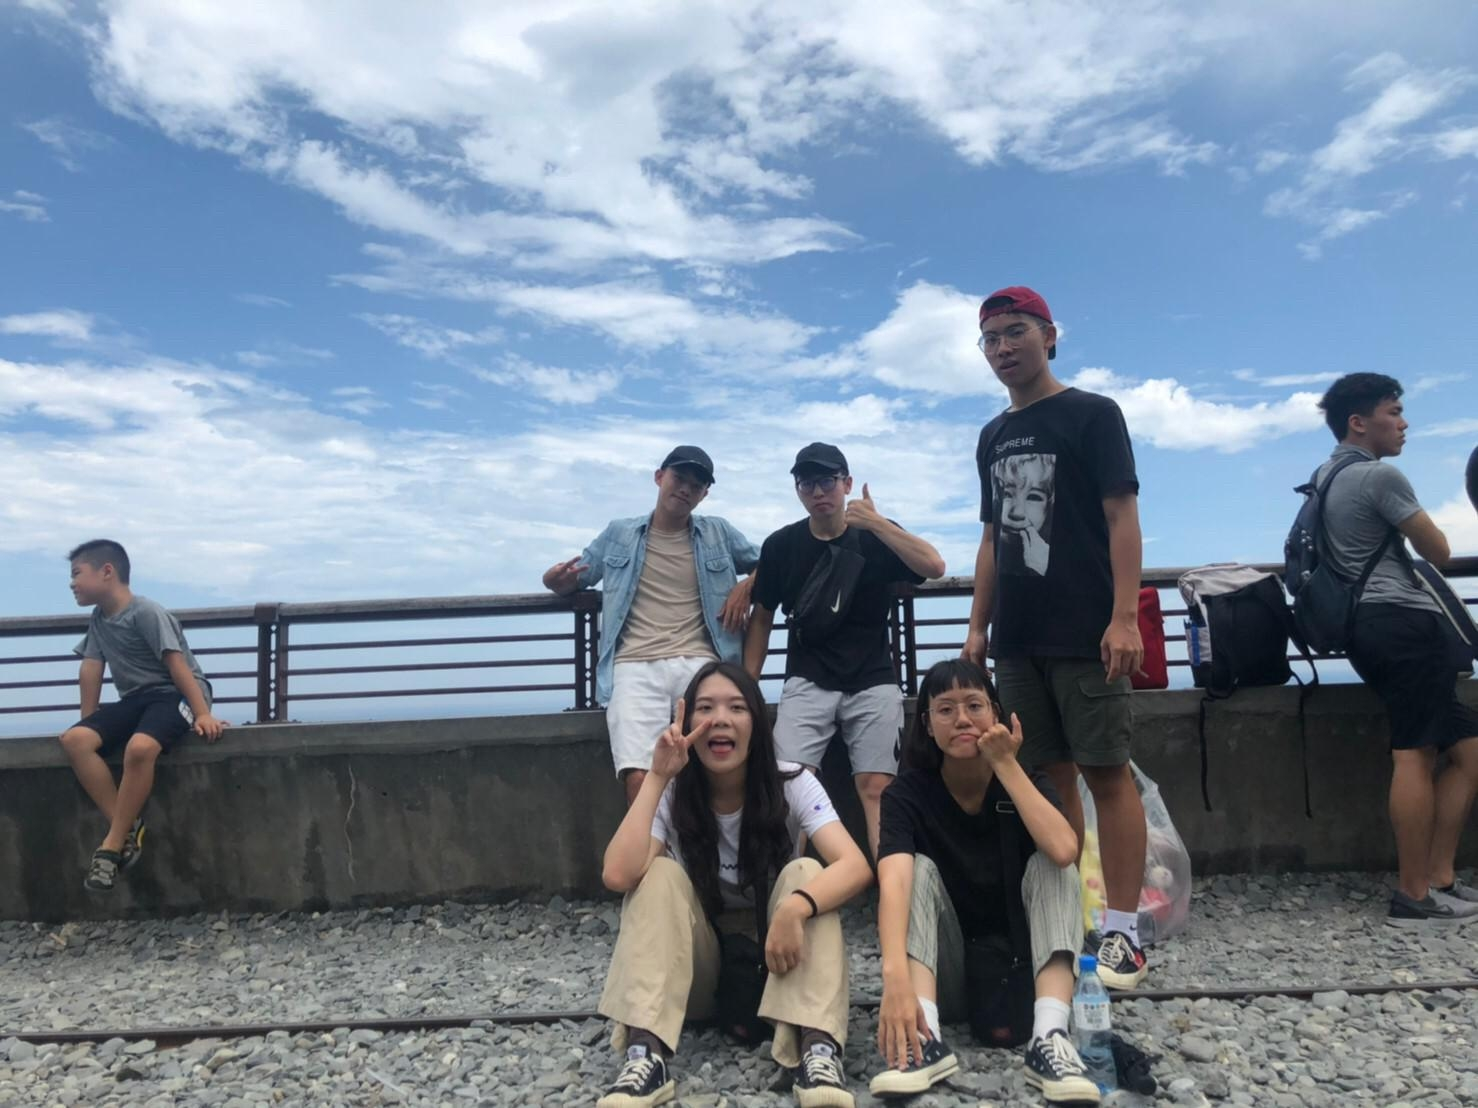people: (969, 300, 1148, 990), (627, 663, 850, 1100), (1308, 363, 1478, 925), (888, 675, 1079, 1102), (596, 455, 754, 913), (777, 444, 921, 932), (54, 536, 173, 875)
